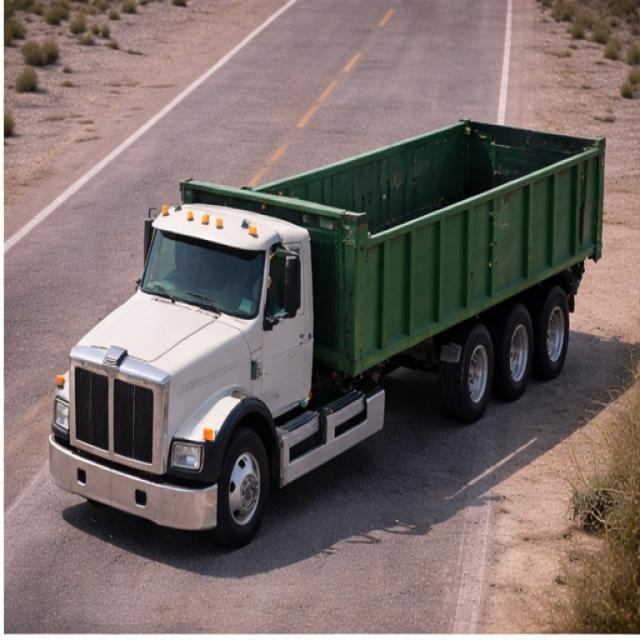Box: (182, 116, 602, 240)
Truck: (42, 104, 608, 549)
